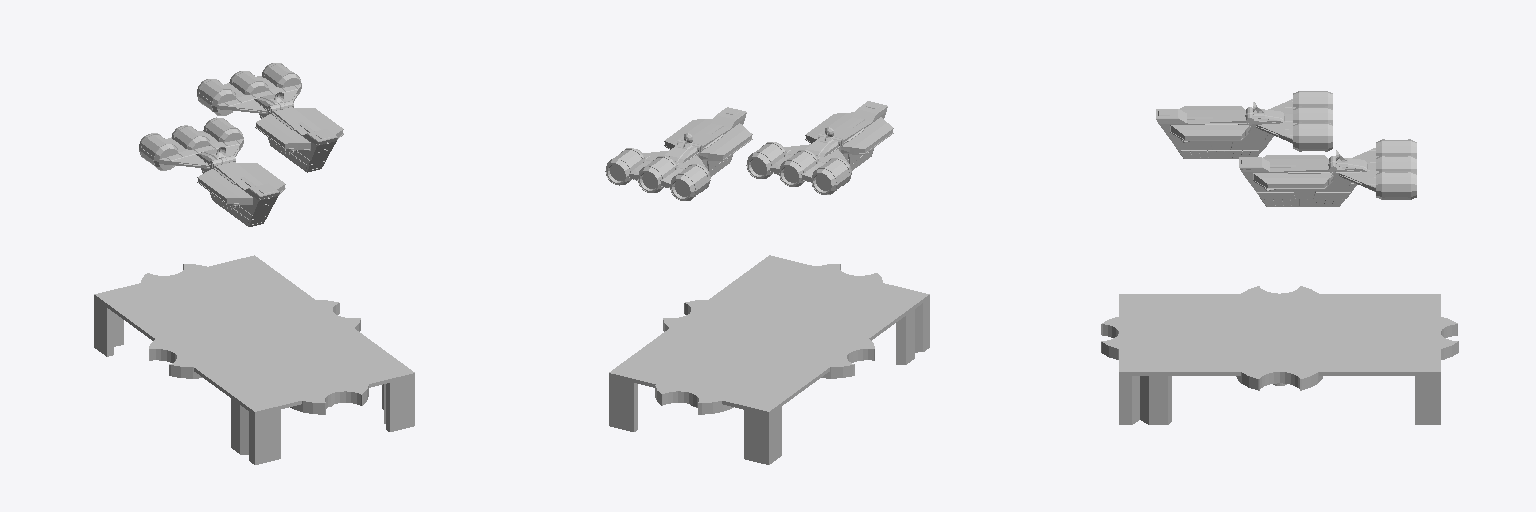
3 renders of one model, left to right at view 1: azimuth 30°, elevation 25°; view 2: azimuth 150°, elevation 25°; view 3: azimuth 270°, elevation 25°, orthographic.
Visible parts, largest first — view 1: Base_-_Small_Plane.002, cr20.002; view 2: Base_-_Small_Plane.002, cr20.002; view 3: Base_-_Small_Plane.002, cr20.002.
Part boxes in pixels (bbox=[...]): Base_-_Small_Plane.002: bbox=[94, 255, 414, 464]; cr20.002: bbox=[139, 63, 343, 226]; Base_-_Small_Plane.002: bbox=[609, 255, 929, 464]; cr20.002: bbox=[605, 101, 893, 200]; Base_-_Small_Plane.002: bbox=[1101, 286, 1458, 424]; cr20.002: bbox=[1156, 91, 1416, 206].
Bounding box in the file's own units: 1.95 × 2.51 × 3.11.